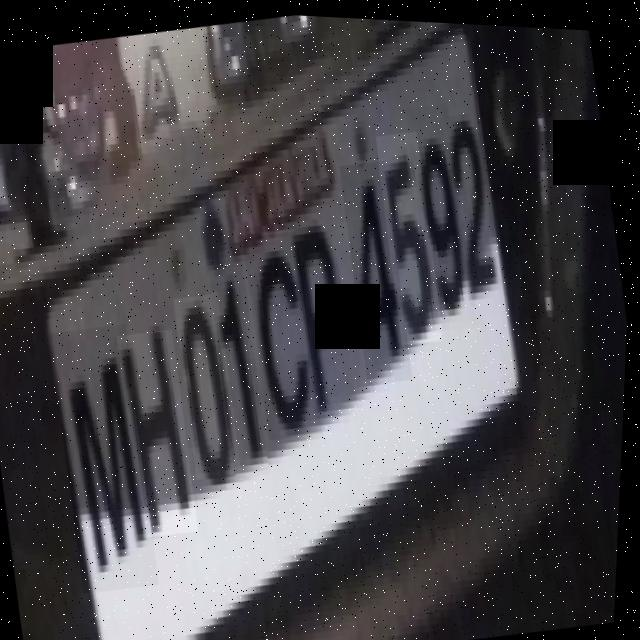0: (170, 289, 251, 479)
1: (203, 259, 281, 479)
4: (333, 154, 425, 382)
5: (370, 125, 453, 342)
9: (398, 96, 486, 327)
C: (237, 225, 334, 439)
H: (113, 324, 210, 538)
M: (43, 319, 173, 595)
P: (281, 197, 368, 424)
